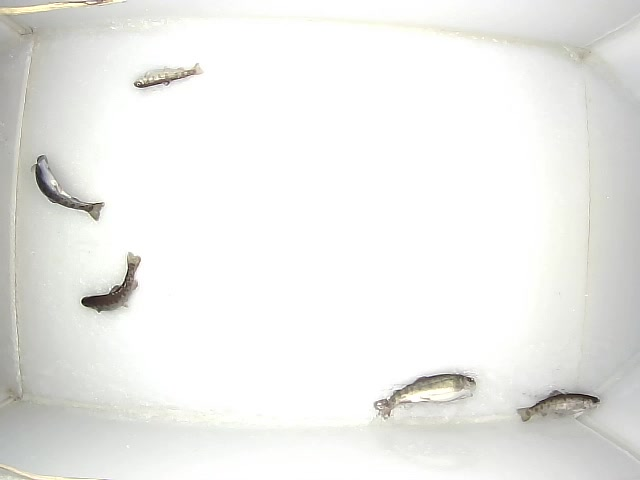fish: (31, 155, 105, 221), (374, 374, 476, 420), (81, 252, 141, 314), (516, 390, 601, 423), (133, 63, 204, 88)
